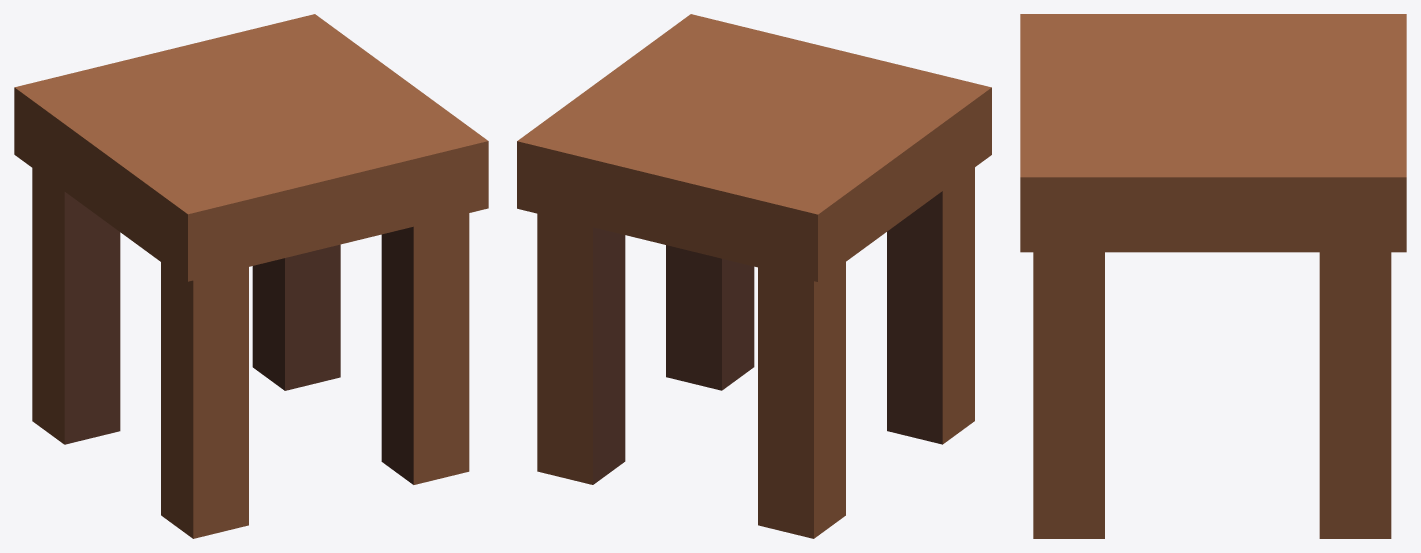
File: TB_Prop_Chair_Small.FBX
The picture shows the model from 3 angles, left to right: view 1: azimuth 30°, elevation 25°; view 2: azimuth 150°, elevation 25°; view 3: azimuth 270°, elevation 25°; orthographic projection. The views are drawn at different scales.
Visible parts, largest first — view 1: TB_Prop_Chair_Small; view 2: TB_Prop_Chair_Small; view 3: TB_Prop_Chair_Small.
Part boxes in pixels (x1,y1,x2,y2): TB_Prop_Chair_Small: (14, 14, 488, 538); TB_Prop_Chair_Small: (517, 14, 991, 538); TB_Prop_Chair_Small: (1020, 14, 1406, 538).
Size of the model in its own units: 0.5726 by 0.6036 by 0.5726.
